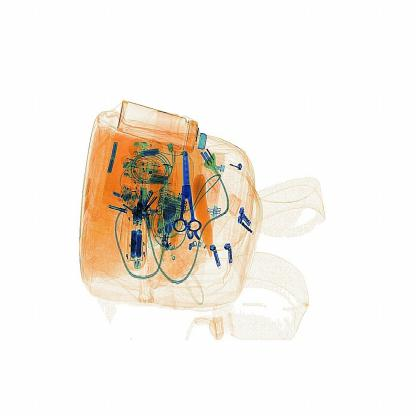gun: (167, 145, 203, 239)
